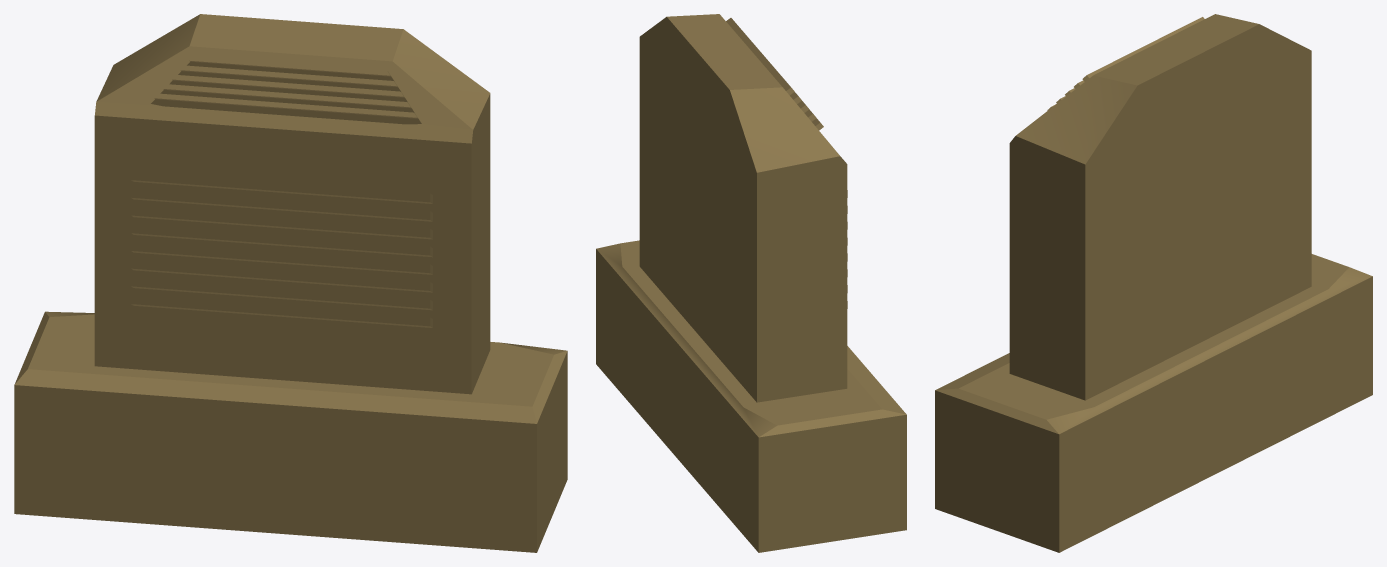
Rendered from 02 Air supplier.FBX.
3 renders of one model, left to right at view 1: azimuth 30°, elevation 25°; view 2: azimuth 150°, elevation 25°; view 3: azimuth 270°, elevation 25°, orthographic. The views are drawn at different scales.
Visible parts, largest first — view 1: Air supplier_1; view 2: Air supplier_1; view 3: Air supplier_1.
Boxes of the visible parts, x1,y1,x2,y2 form: Air supplier_1: (14,14,567,552); Air supplier_1: (596,14,906,552); Air supplier_1: (935,14,1372,552).
Bounding box in the file's own units: 635 × 605 × 582.
